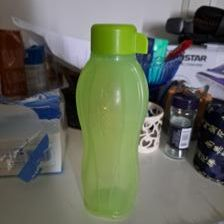bottle: (70, 20, 152, 217)
